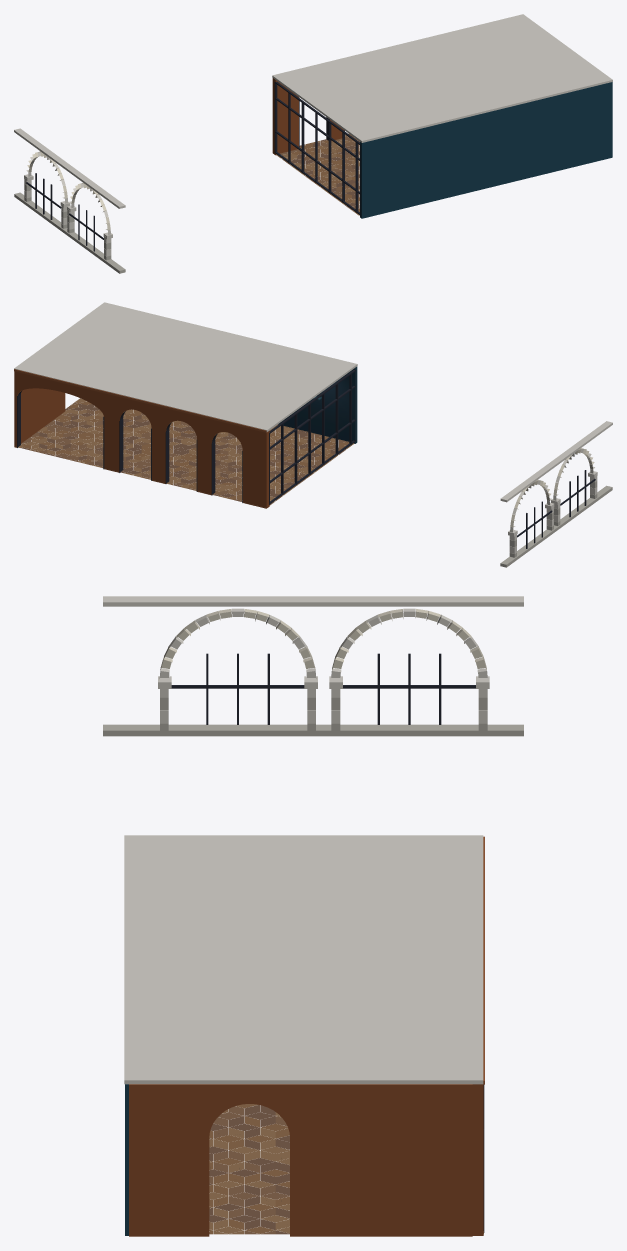
Rendered from arches.glb.
The picture shows the model from 3 angles, top to bottom: view 1: azimuth 30°, elevation 25°; view 2: azimuth 150°, elevation 25°; view 3: azimuth 270°, elevation 25°; orthographic projection. The views are drawn at different scales.
Parts seen in each view (by area): view 1: HalffArches; view 2: HalffArches; view 3: HalffArches.
Boxes of the visible parts, x1,y1,x2,y2 form: HalffArches: (14,14,612,273); HalffArches: (14,302,612,567); HalffArches: (103,596,523,1236).
Size of the model in its own units: 23.68 by 3.53 by 8.64.
